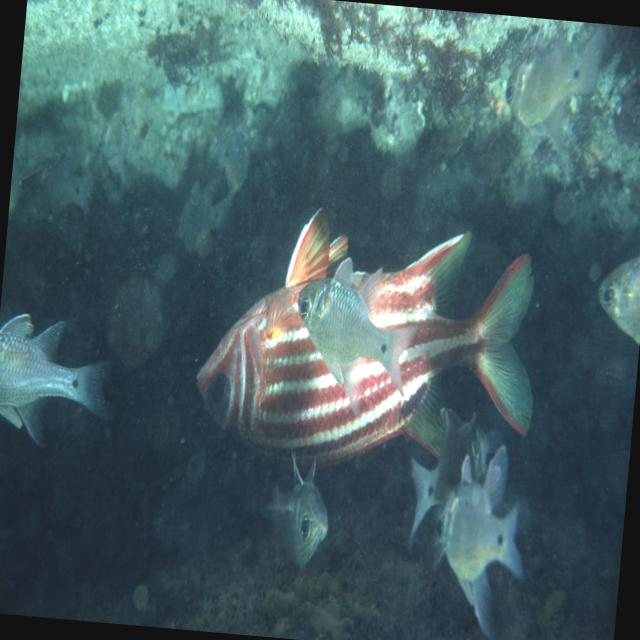Asker Baligi: (188, 196, 550, 489)
